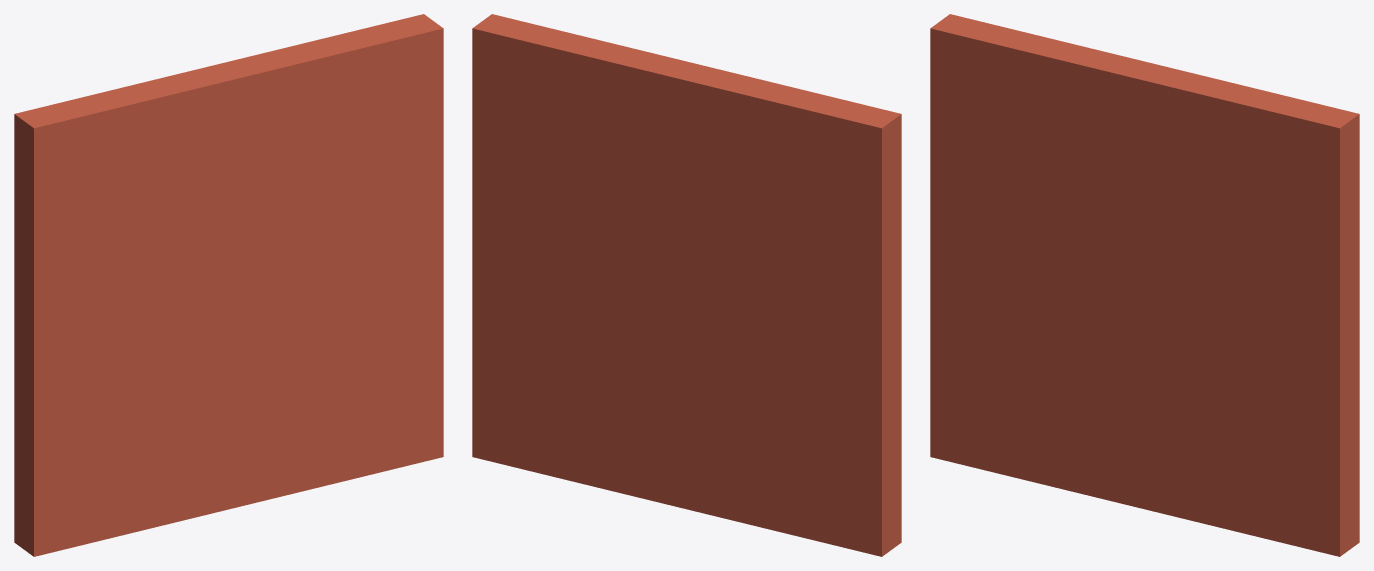
File: Kit_Brick_Wall_Fractured.fbx
3 views of the same model, side by side, from view 1: azimuth 30°, elevation 25°; view 2: azimuth 150°, elevation 25°; view 3: azimuth 330°, elevation 25° (orthographic).
Visible parts, largest first — view 1: Kit_Brick_Wall_frag_02, Kit_Brick_Wall_frag_03, Kit_Brick_Wall_frag_17, Kit_Brick_Wall_frag_15, Kit_Brick_Wall_frag_06, Kit_Brick_Wall_frag_07, Kit_Brick_Wall_frag_14, Kit_Brick_Wall_frag_09, Kit_Brick_Wall_frag_10, Kit_Brick_Wall_frag_05, Kit_Brick_Wall_frag_18, Kit_Brick_Wall_frag_13 (+6 smaller); view 2: Kit_Brick_Wall_frag_02, Kit_Brick_Wall_frag_03, Kit_Brick_Wall_frag_15, Kit_Brick_Wall_frag_14, Kit_Brick_Wall_frag_06, Kit_Brick_Wall_frag_17, Kit_Brick_Wall_frag_07, Kit_Brick_Wall_frag_09, Kit_Brick_Wall_frag_10, Kit_Brick_Wall_frag_18, Kit_Brick_Wall_frag_05, Kit_Brick_Wall_frag_13 (+6 smaller); view 3: Kit_Brick_Wall_frag_17, Kit_Brick_Wall_frag_18, Kit_Brick_Wall_frag_15, Kit_Brick_Wall_frag_06, Kit_Brick_Wall_frag_07, Kit_Brick_Wall_frag_02, Kit_Brick_Wall_frag_14, Kit_Brick_Wall_frag_09, Kit_Brick_Wall_frag_10, Kit_Brick_Wall_frag_05, Kit_Brick_Wall_frag_03, Kit_Brick_Wall_frag_16 (+6 smaller).
Part boxes in pixels (<box>): Kit_Brick_Wall_frag_02: <box>14,274,147,438</box>; Kit_Brick_Wall_frag_03: <box>14,95,105,287</box>; Kit_Brick_Wall_frag_17: <box>350,167,443,362</box>; Kit_Brick_Wall_frag_15: <box>240,31,382,187</box>; Kit_Brick_Wall_frag_06: <box>82,80,181,257</box>; Kit_Brick_Wall_frag_07: <box>141,373,257,524</box>; Kit_Brick_Wall_frag_14: <box>295,171,390,354</box>; Kit_Brick_Wall_frag_09: <box>152,60,253,228</box>; Kit_Brick_Wall_frag_10: <box>207,334,347,487</box>; Kit_Brick_Wall_frag_05: <box>60,232,177,389</box>; Kit_Brick_Wall_frag_18: <box>352,14,443,173</box>; Kit_Brick_Wall_frag_13: <box>256,354,376,502</box>; Kit_Brick_Wall_frag_02: <box>767,273,901,438</box>; Kit_Brick_Wall_frag_03: <box>806,96,901,288</box>; Kit_Brick_Wall_frag_15: <box>533,31,675,187</box>; Kit_Brick_Wall_frag_14: <box>521,171,621,354</box>; Kit_Brick_Wall_frag_06: <box>734,80,829,256</box>; Kit_Brick_Wall_frag_17: <box>472,169,561,359</box>; Kit_Brick_Wall_frag_07: <box>659,372,771,523</box>; Kit_Brick_Wall_frag_09: <box>664,60,763,229</box>; Kit_Brick_Wall_frag_10: <box>570,334,709,484</box>; Kit_Brick_Wall_frag_18: <box>472,14,563,174</box>; Kit_Brick_Wall_frag_05: <box>737,232,853,388</box>; Kit_Brick_Wall_frag_13: <box>536,352,660,502</box>; Kit_Brick_Wall_frag_17: <box>1246,248,1359,437</box>; Kit_Brick_Wall_frag_18: <box>1267,96,1359,267</box>; Kit_Brick_Wall_frag_15: <box>1156,69,1287,241</box>; Kit_Brick_Wall_frag_06: <box>979,32,1086,201</box>; Kit_Brick_Wall_frag_07: <box>1037,343,1153,510</box>; Kit_Brick_Wall_frag_02: <box>930,187,1043,359</box>; Kit_Brick_Wall_frag_14: <box>1191,232,1287,408</box>; Kit_Brick_Wall_frag_09: <box>1068,47,1167,217</box>; Kit_Brick_Wall_frag_10: <box>1103,351,1243,496</box>; Kit_Brick_Wall_frag_05: <box>956,181,1073,345</box>; Kit_Brick_Wall_frag_03: <box>930,14,1024,191</box>; Kit_Brick_Wall_frag_16: <box>1270,422,1359,556</box>.
Size of what is drawn, in the model's own units: 3 by 3 by 0.25.
2 materials, 2 textured.
